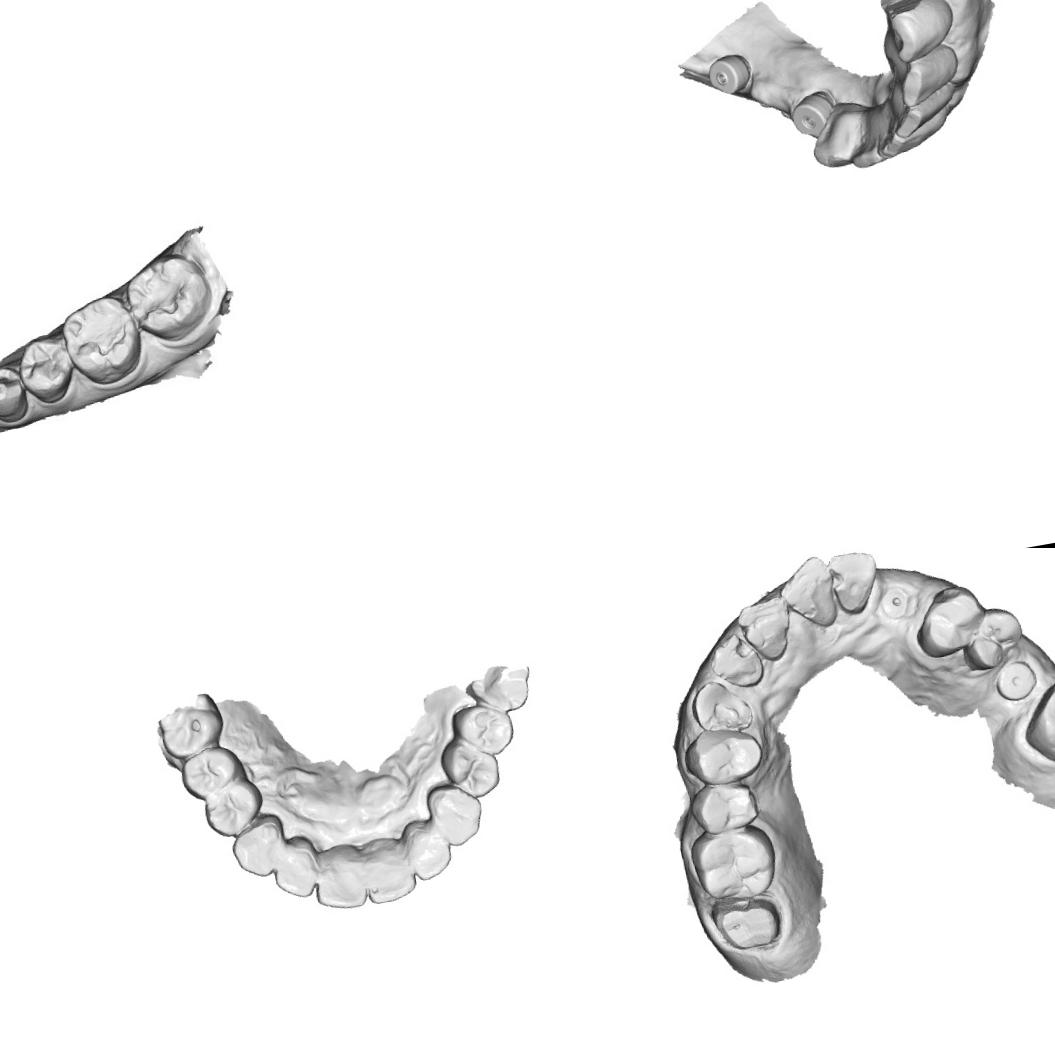canine: (875, 0, 959, 63), (422, 778, 488, 852), (685, 672, 753, 739), (226, 817, 287, 882), (808, 120, 865, 171)
crown: (704, 886, 792, 959)
implant: (786, 87, 837, 141), (988, 656, 1040, 706), (704, 50, 756, 98), (876, 576, 924, 623)
incisor: (772, 552, 841, 634), (732, 593, 799, 666), (306, 839, 370, 915), (356, 832, 420, 906), (892, 44, 965, 108), (704, 626, 768, 696), (823, 548, 884, 618), (399, 815, 456, 884), (266, 840, 320, 904), (890, 98, 938, 139), (873, 126, 930, 160), (850, 135, 886, 172)
molar: (120, 246, 218, 352), (56, 288, 146, 390), (684, 818, 785, 908), (156, 703, 228, 761), (1014, 671, 1055, 769), (464, 660, 536, 714)
premolar: (907, 578, 991, 662), (676, 720, 766, 792), (434, 730, 506, 806), (955, 602, 1029, 674), (685, 774, 762, 838), (447, 697, 520, 763), (15, 332, 76, 408), (198, 776, 268, 842), (175, 740, 246, 804), (0, 356, 30, 427)
